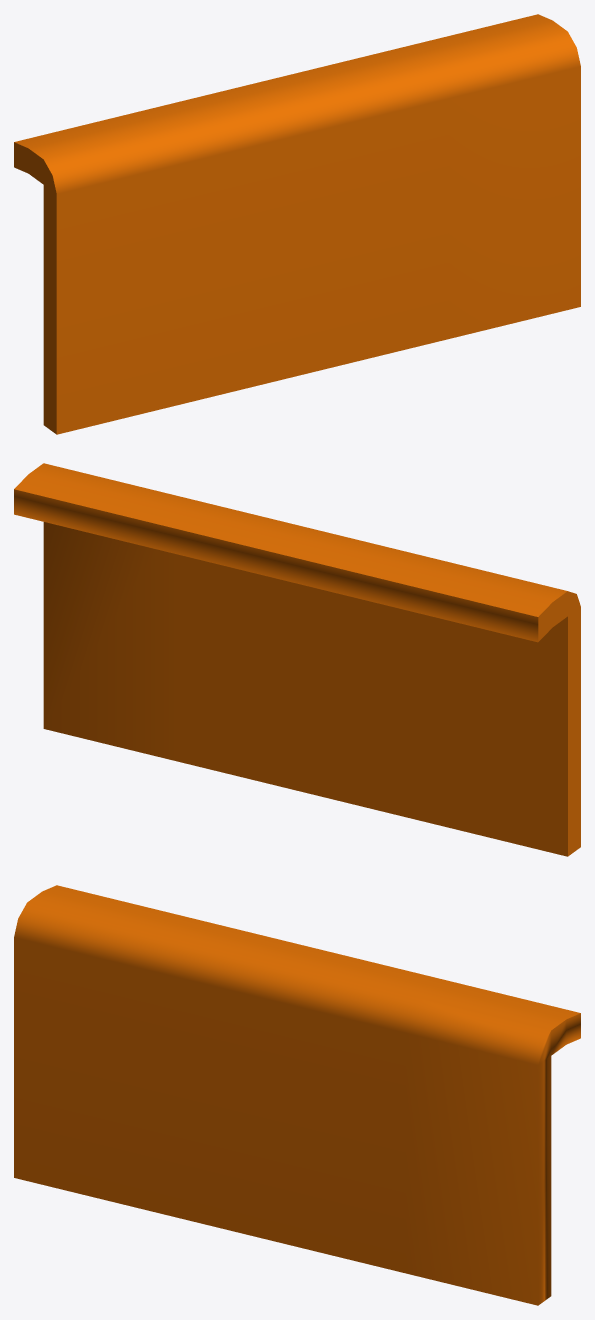
The model's file is Plastic_Pipe_A_Right.fbx.
3 views of the same model, one above another, from view 1: azimuth 30°, elevation 25°; view 2: azimuth 150°, elevation 25°; view 3: azimuth 330°, elevation 25° (orthographic).
Visible parts, largest first — view 1: Plastic_Pipe_A_Right; view 2: Plastic_Pipe_A_Right; view 3: Plastic_Pipe_A_Right.
Boxes of the visible parts, x1,y1,x2,y2 form: Plastic_Pipe_A_Right: (14,14,580,434); Plastic_Pipe_A_Right: (14,463,580,856); Plastic_Pipe_A_Right: (14,885,580,1305).
Size of the model in its own units: 5.09 by 2.47 by 0.7203.
